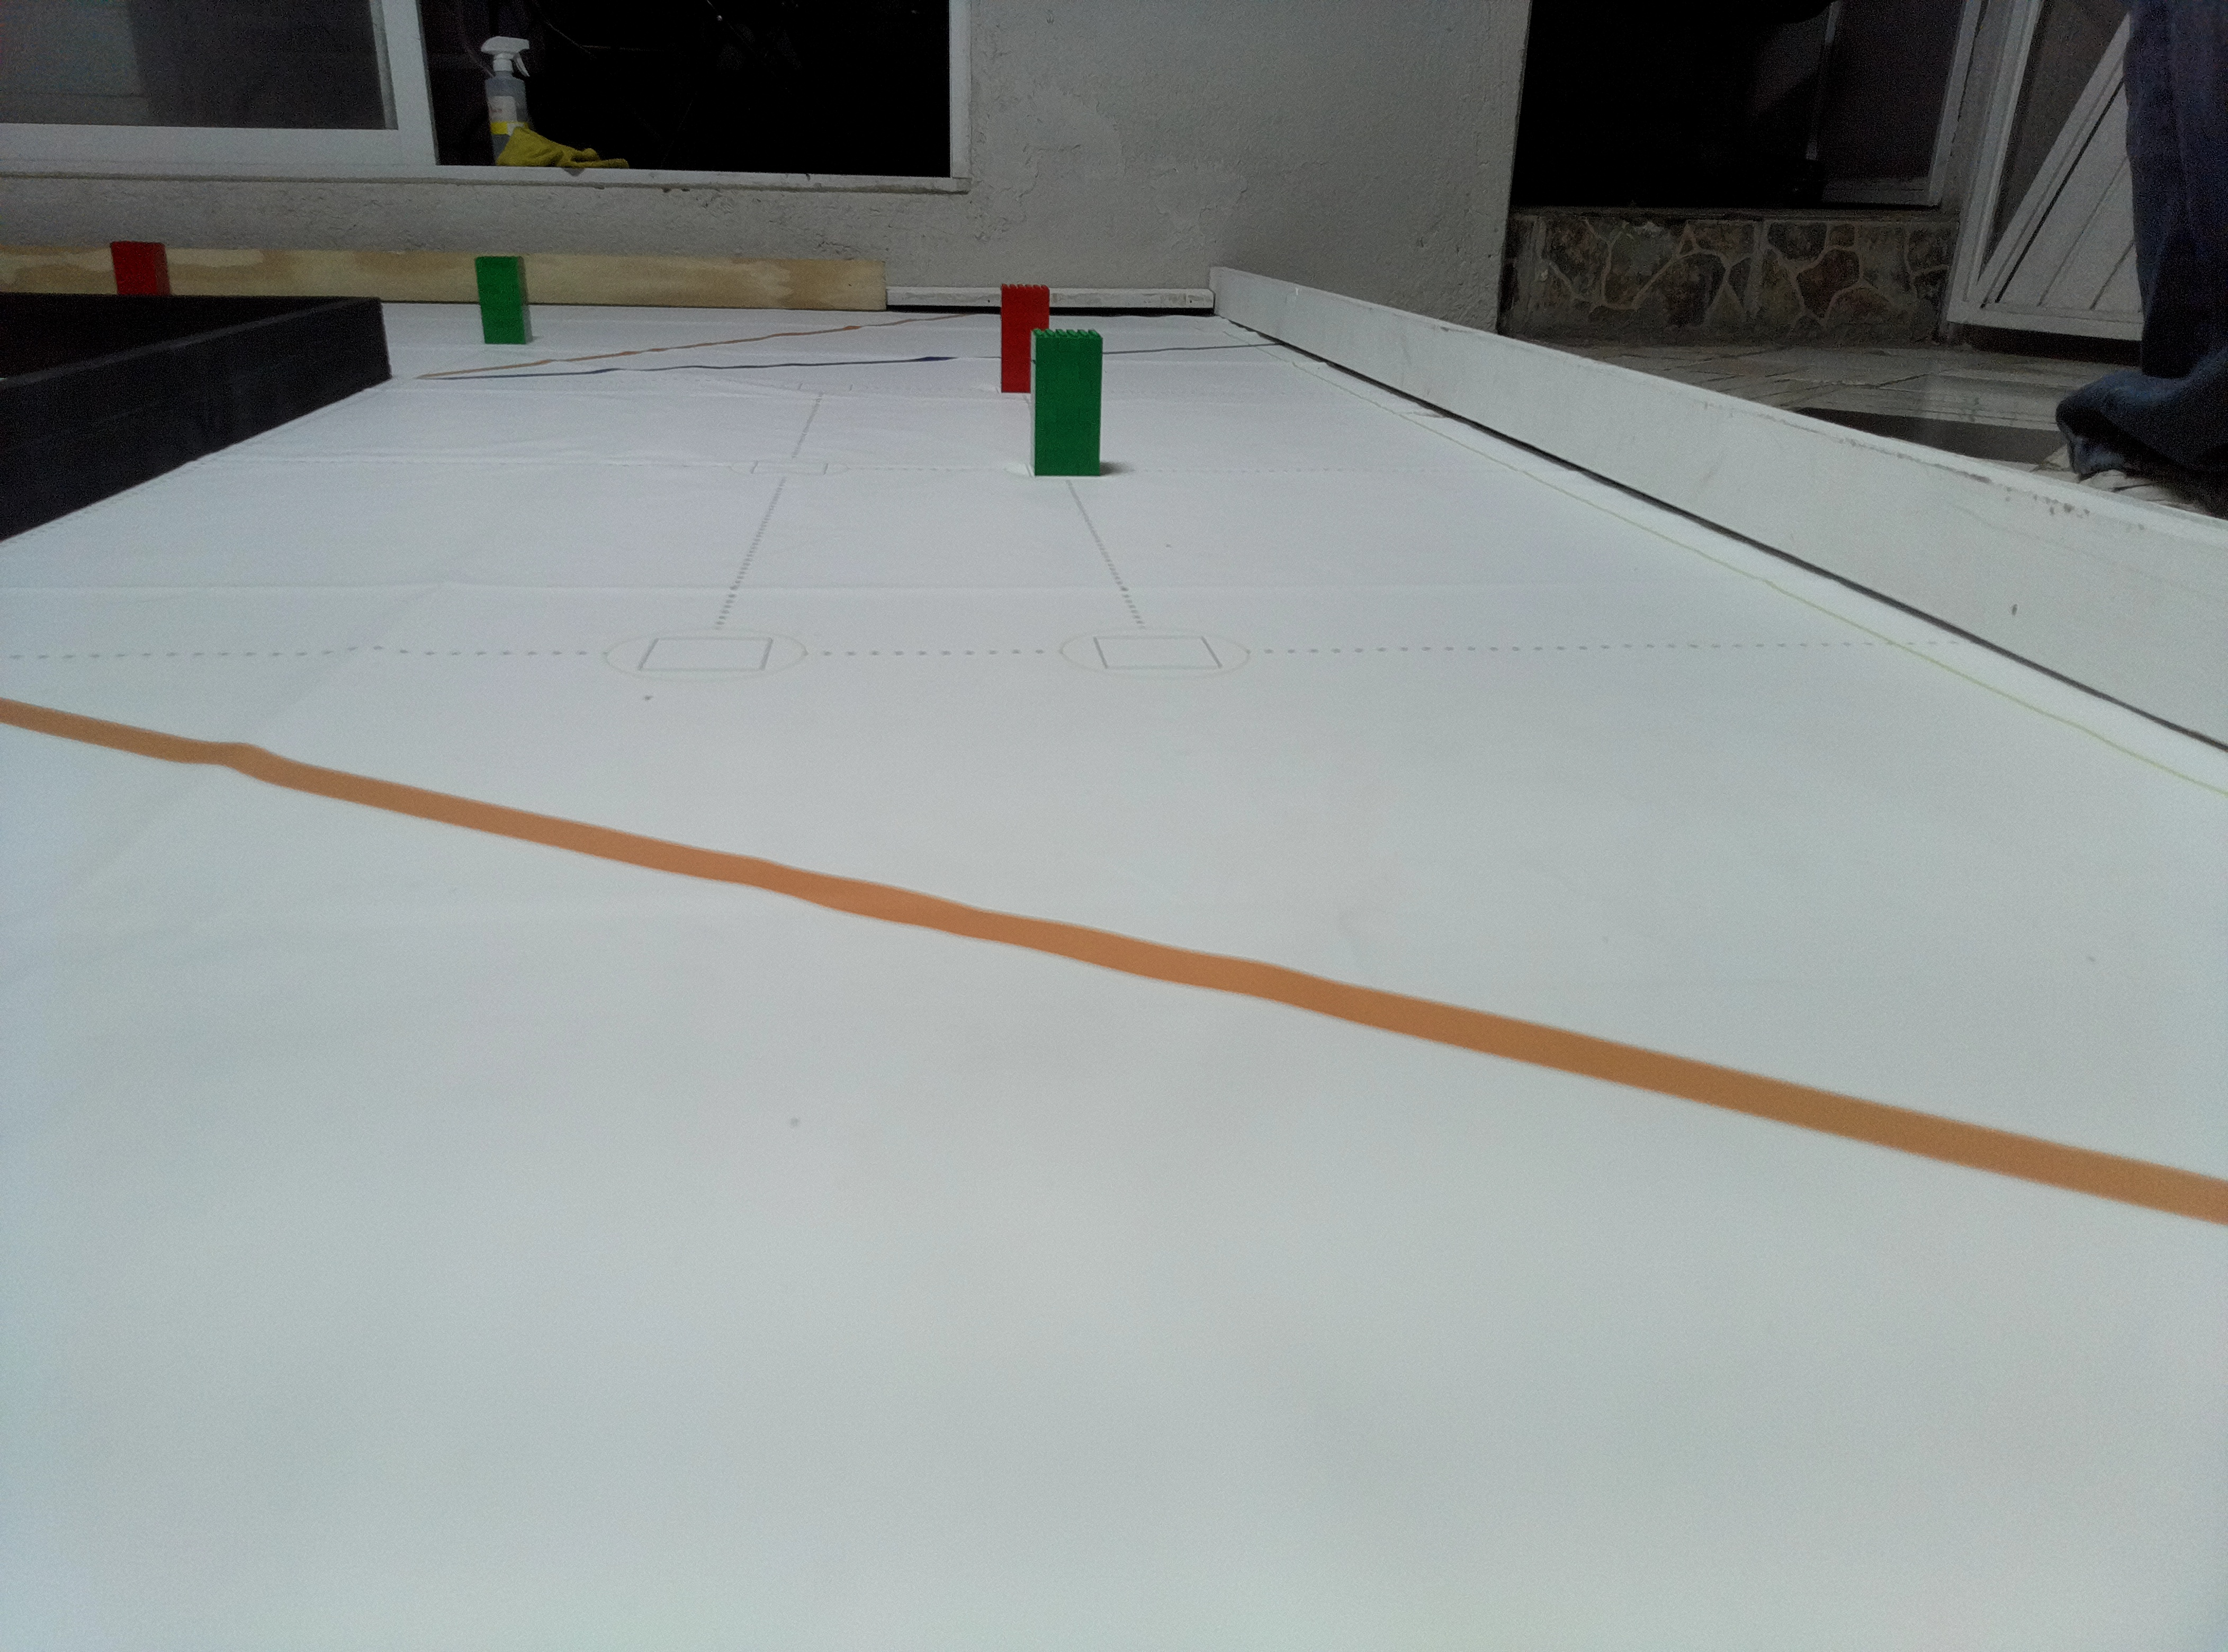greenbox: (1029, 327, 1104, 477), (472, 254, 534, 346)
redbox: (999, 281, 1050, 394), (109, 239, 175, 296)
